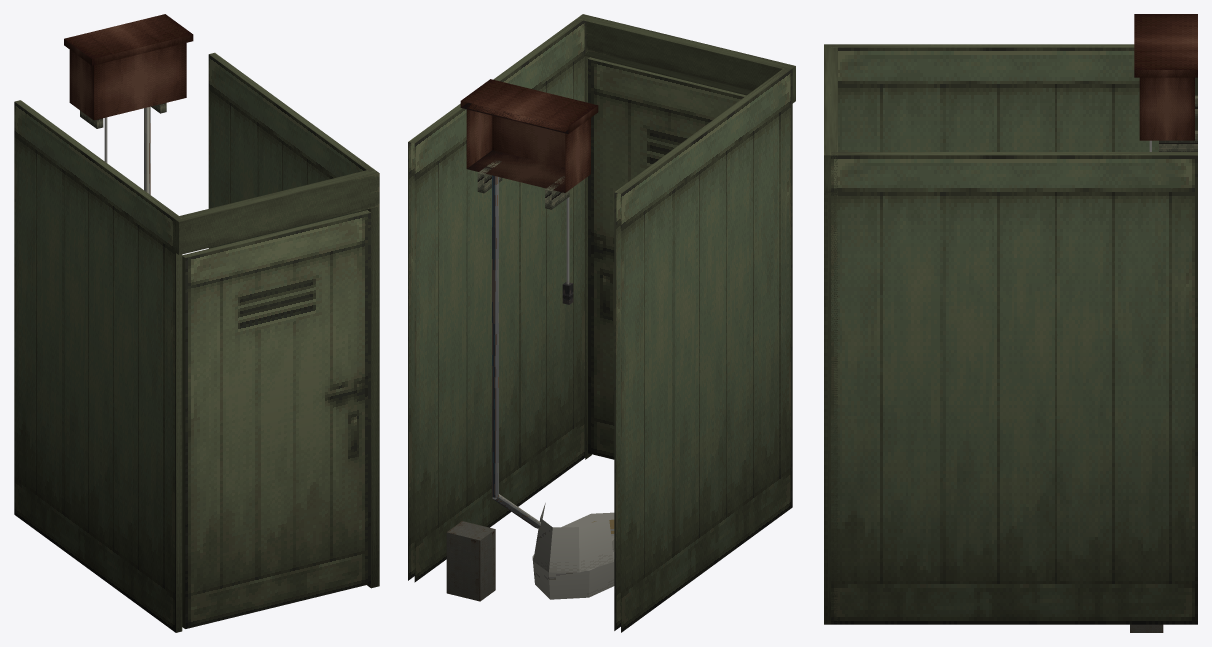
Rendered from prop_toilet_stall-0-end.glb.
The picture shows the model from 3 angles, left to right: view 1: azimuth 30°, elevation 25°; view 2: azimuth 150°, elevation 25°; view 3: azimuth 270°, elevation 25°; orthographic projection. The views are drawn at different scales.
Parts seen in each view (by area): view 1: prop_toilet_stall-0-end; view 2: prop_toilet_stall-0-end; view 3: prop_toilet_stall-0-end.
Boxes of the visible parts, box(x1,y1,x2,y2) form: prop_toilet_stall-0-end: box(14, 14, 379, 632); prop_toilet_stall-0-end: box(408, 14, 795, 632); prop_toilet_stall-0-end: box(824, 14, 1197, 632).
Size of the model in its own units: 0.95 by 2.18 by 1.35.
11 materials, 11 textured.
